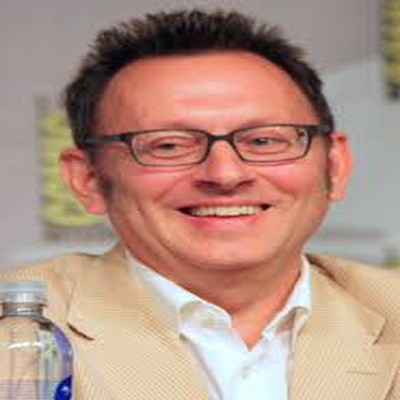eywear: (90, 91, 317, 176)
